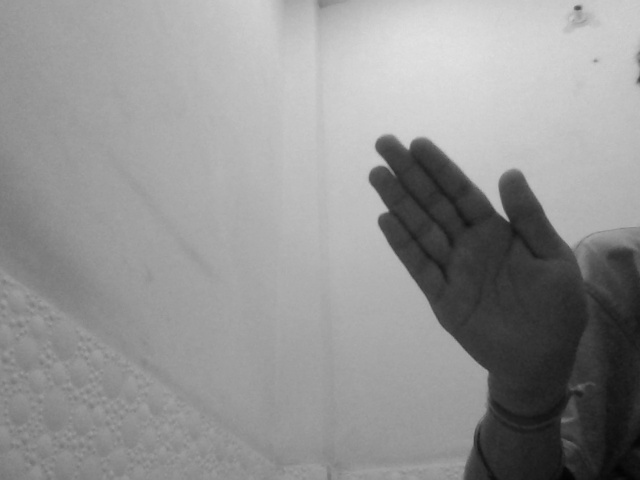Hello: (362, 133, 589, 394)
